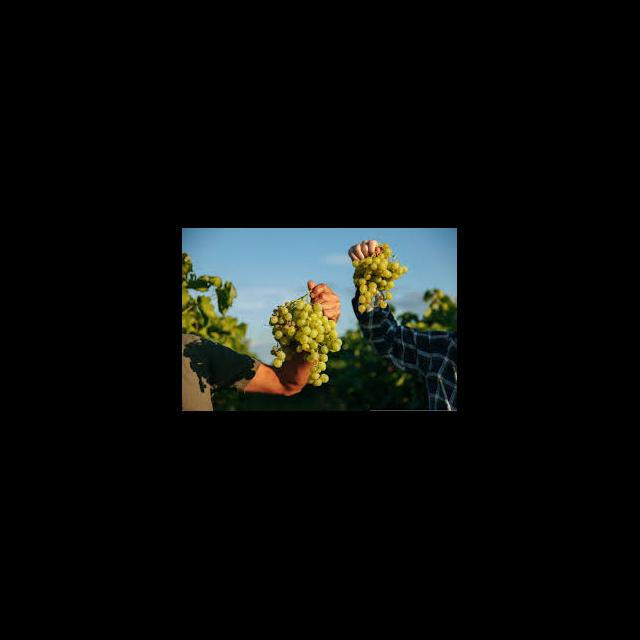grape: (268, 298, 342, 387), (352, 242, 408, 314)
